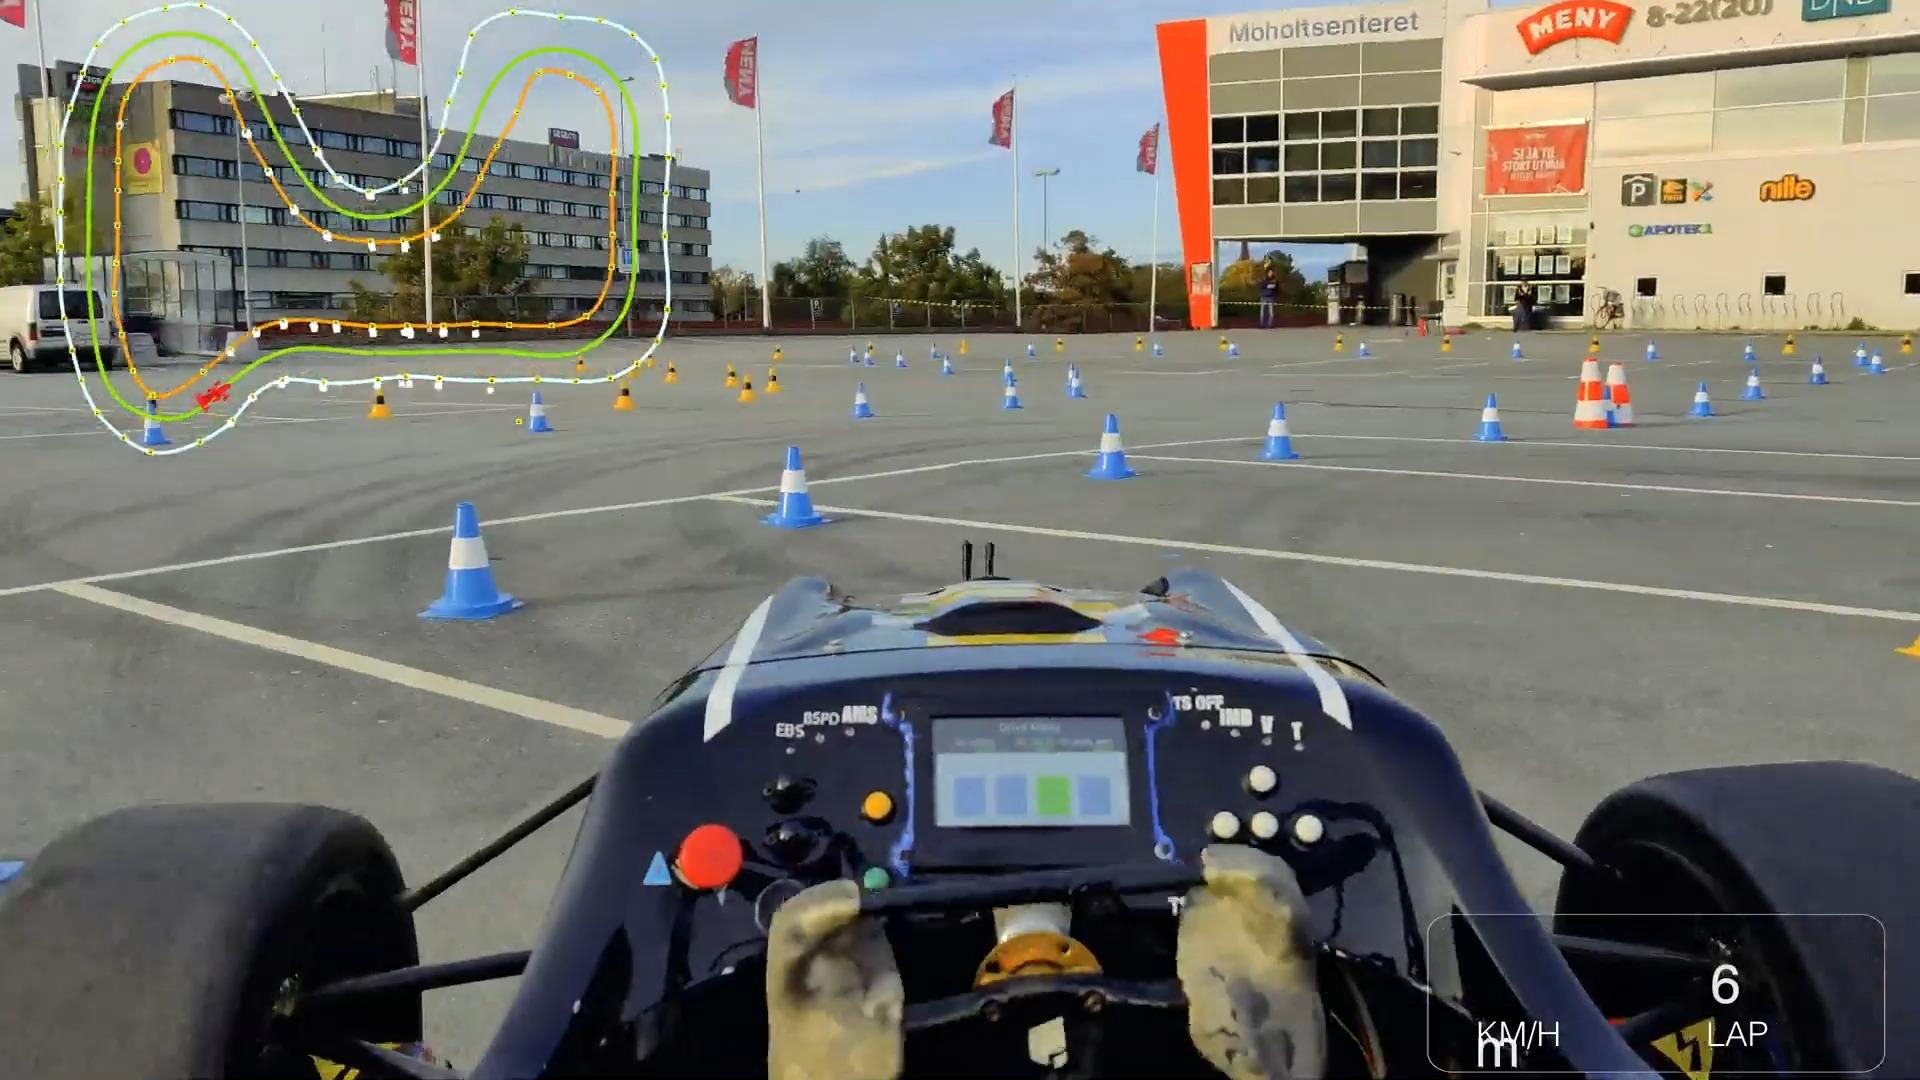blue_cone: (421, 502, 524, 624), (762, 446, 828, 530), (1085, 413, 1137, 480), (1254, 402, 1300, 462), (1476, 393, 1511, 442), (137, 400, 170, 444), (1594, 384, 1622, 426), (853, 380, 874, 421), (530, 392, 551, 433), (1689, 382, 1710, 417), (1001, 377, 1023, 409), (1742, 368, 1762, 400), (1866, 348, 1884, 373), (1000, 355, 1015, 384), (1071, 372, 1088, 398), (1063, 364, 1080, 388), (1811, 359, 1826, 384), (1853, 343, 1869, 367), (894, 347, 909, 367), (1742, 340, 1756, 360), (1644, 338, 1658, 359), (1509, 340, 1523, 359), (942, 356, 955, 376), (1151, 339, 1164, 359), (928, 342, 942, 360), (1228, 342, 1241, 359), (862, 347, 874, 365), (1026, 338, 1038, 356), (848, 347, 860, 364), (1360, 342, 1370, 359)
large_orange_cone: (1575, 359, 1609, 430), (1605, 361, 1633, 427)
yellow_cone: (612, 378, 636, 410), (368, 385, 392, 417), (737, 376, 757, 406), (662, 361, 682, 384), (766, 367, 783, 392), (1898, 332, 1916, 355), (725, 363, 740, 390), (1782, 331, 1797, 355), (1586, 335, 1601, 353), (574, 353, 587, 373), (1440, 334, 1453, 351), (1054, 336, 1067, 353), (773, 343, 785, 361), (645, 349, 657, 368), (1332, 335, 1345, 351), (865, 340, 878, 356), (1220, 334, 1229, 351), (1135, 335, 1145, 351), (960, 339, 969, 355)
